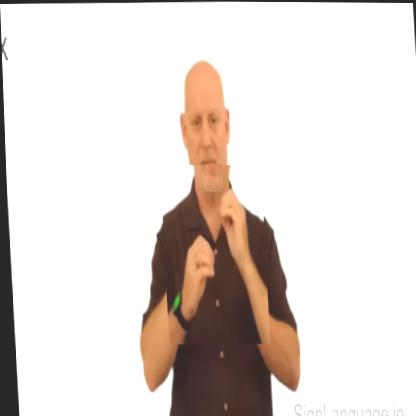Fix: (158, 163, 267, 344)
